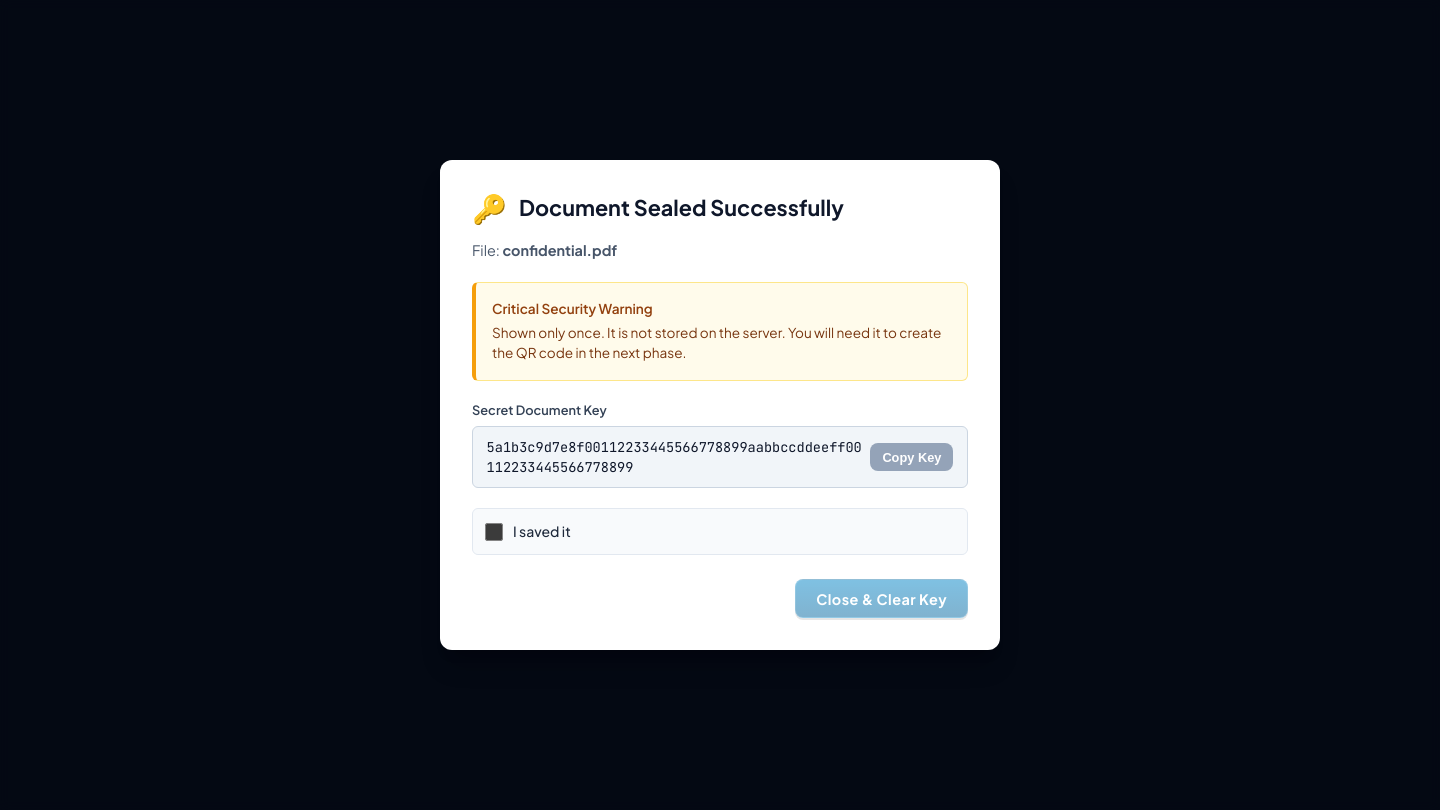
Scenario: KeyRevealModal Component Tests › renders the secret key once with copy capability and security warning
expect the text with test id "document-key-value" reads "5a1b3c9d7e8f00112233445566778899aabbccddeeff00112233445566778899": met, box x1=487 y1=438 x2=862 y2=476
expect the text "Shown only once" is shown: met, box x1=492 y1=324 x2=941 y2=361
# Copy action
Click the button "Copy Key" at (912,457), box x1=870 y1=443 x2=953 y2=471
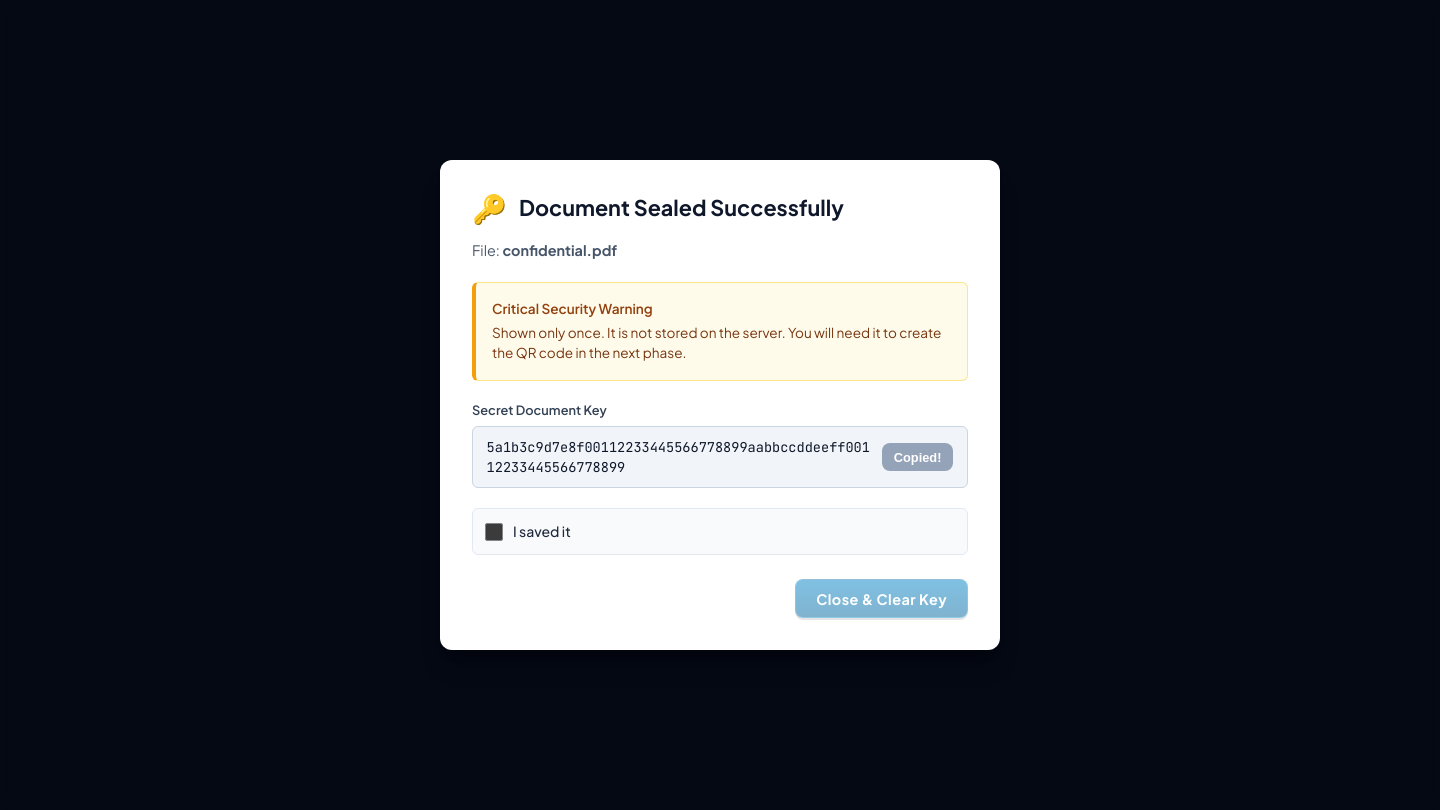
expect the text with test id "document-key-value" reads "5a1b3c9d7e8f00112233445566778899aabbccddeeff00112233445566778899": met, box x1=487 y1=438 x2=870 y2=476
expect the button "Copied!" is shown: met, box x1=882 y1=443 x2=953 y2=471
